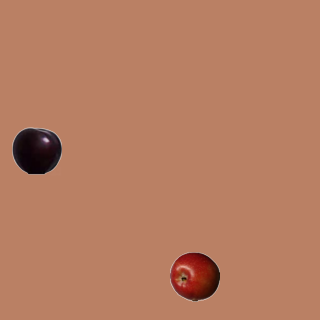Apple Braeburn: (169, 251, 219, 301)
Cherry Wax Black: (11, 125, 61, 175)
